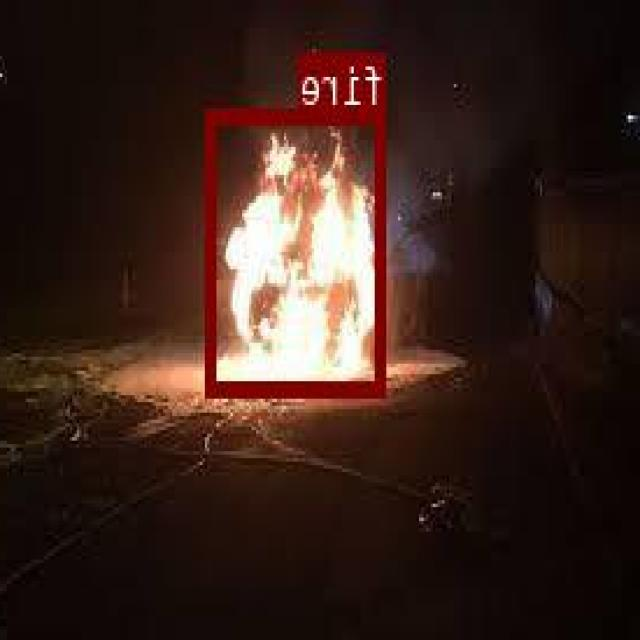fire: (208, 106, 388, 394)
